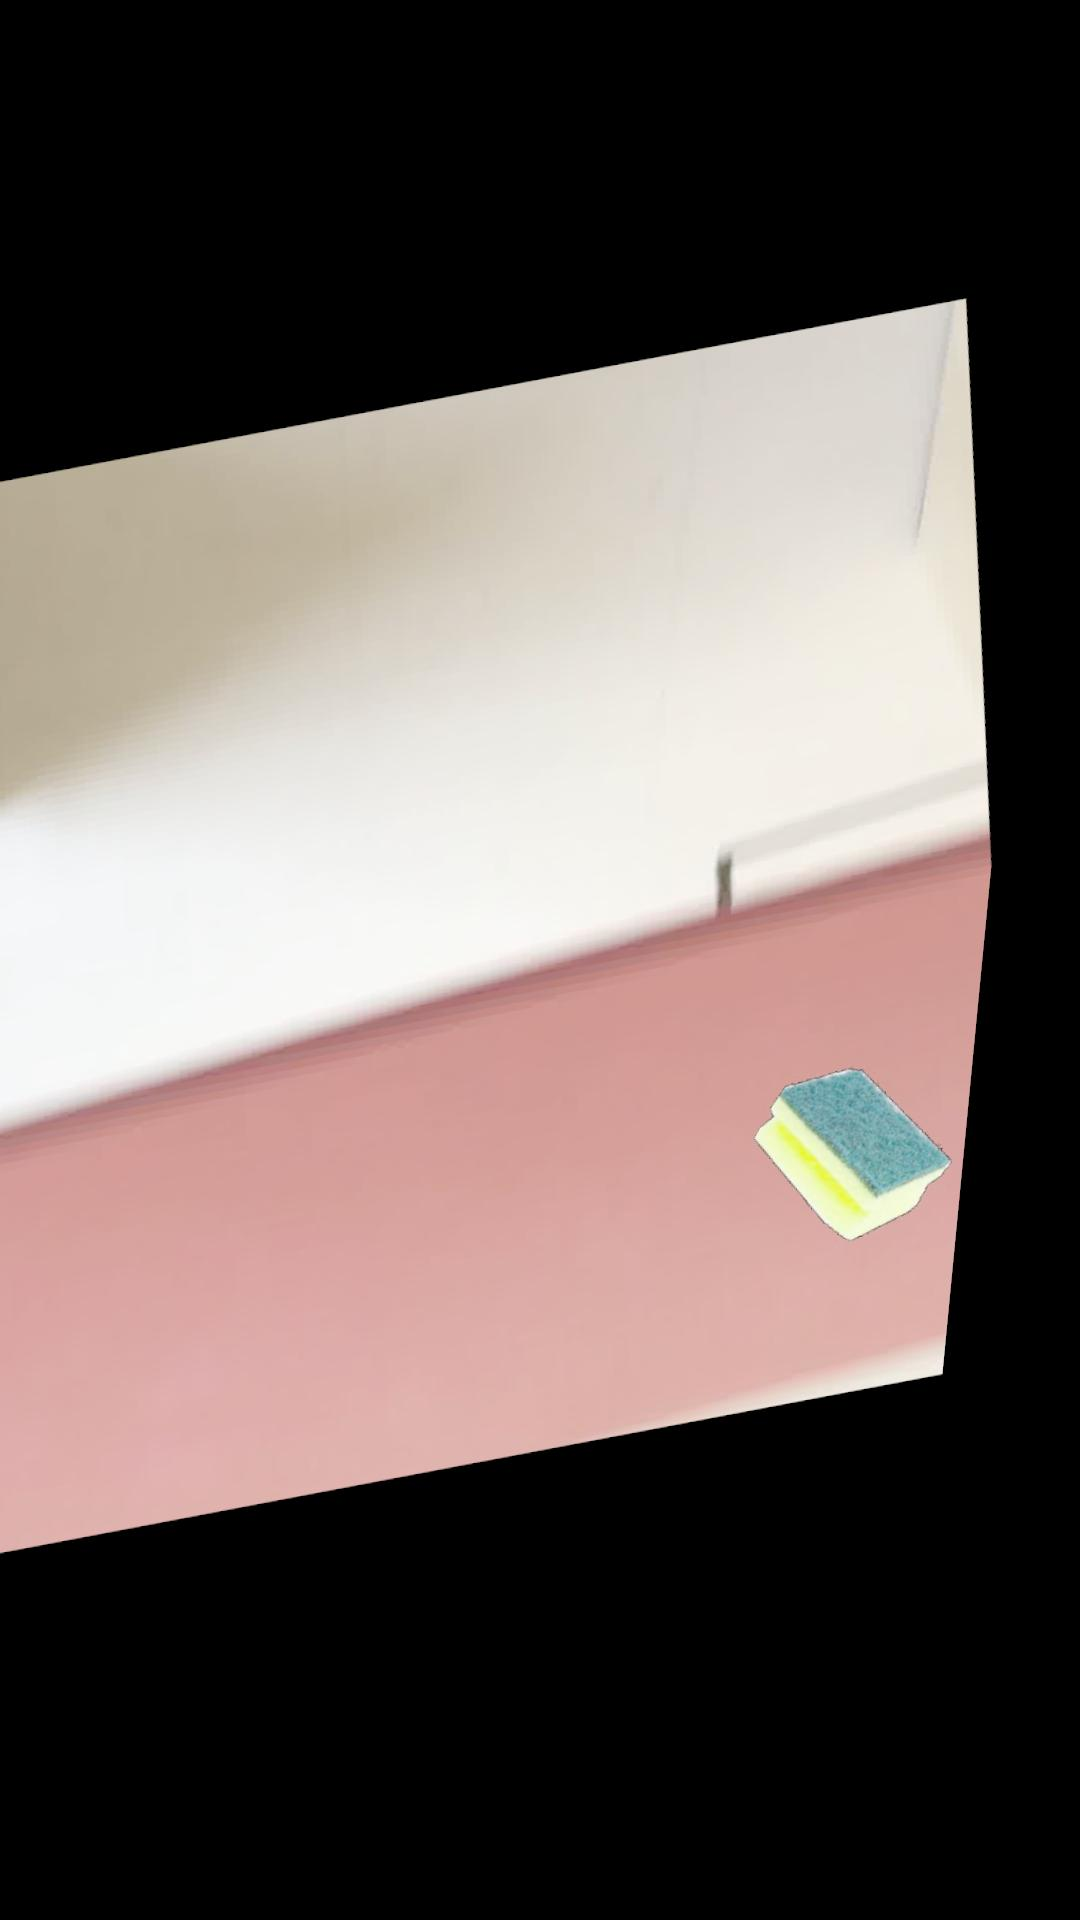sponge: (779, 1076, 977, 1250)
